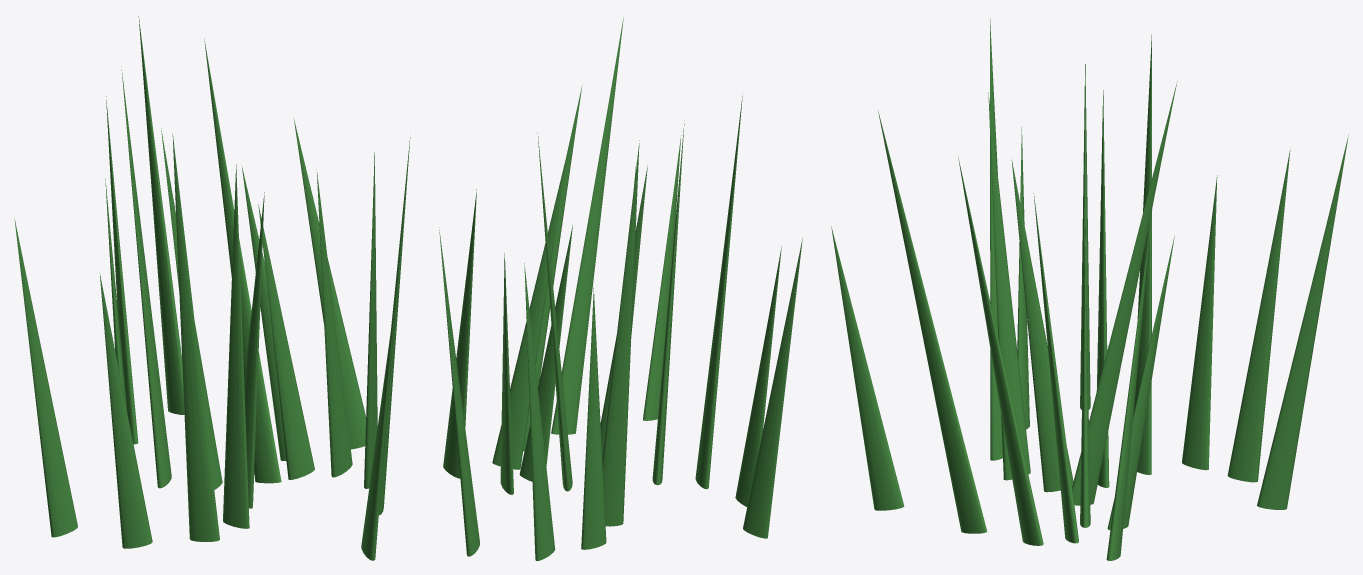
The picture shows the model from 3 angles, left to right: view 1: azimuth 30°, elevation 25°; view 2: azimuth 150°, elevation 25°; view 3: azimuth 270°, elevation 25°; orthographic projection. The views are drawn at different scales.
Visible parts, largest first — view 1: grass-clump; view 2: grass-clump; view 3: grass-clump.
Part boxes in pixels (bbox=[...]): grass-clump: bbox=[14, 16, 410, 560]; grass-clump: bbox=[439, 18, 802, 560]; grass-clump: bbox=[831, 18, 1348, 560].
Bounding box in the file's own units: 0.3383 × 0.3695 × 0.4079.
